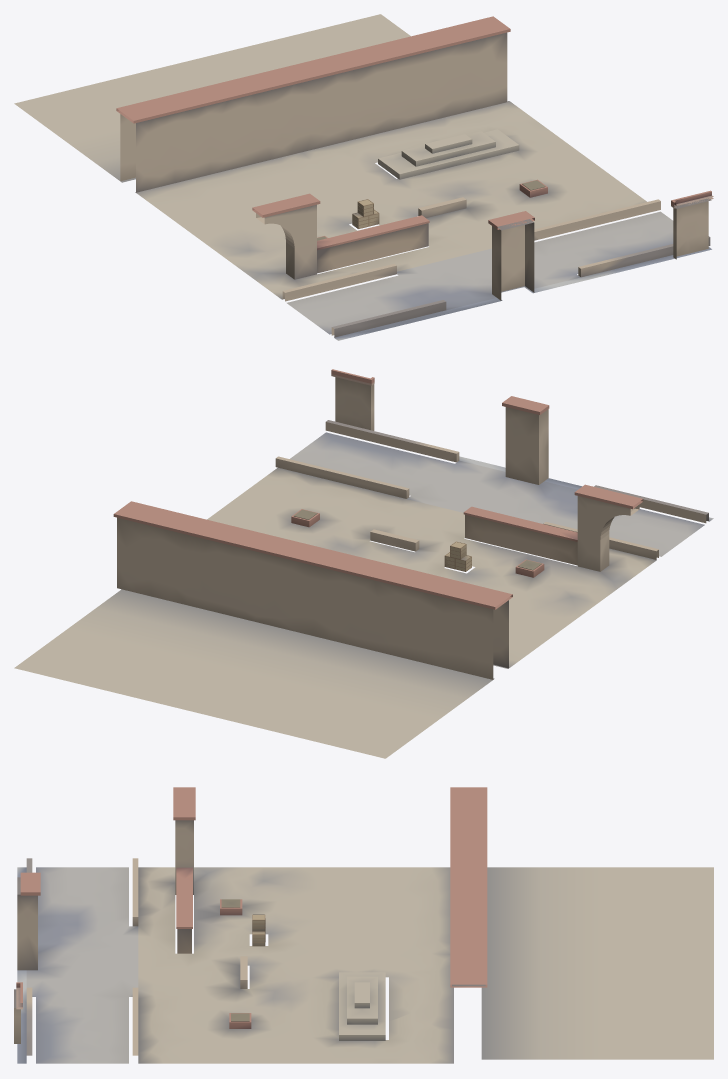
The picture shows the model from 3 angles, top to bottom: view 1: azimuth 30°, elevation 25°; view 2: azimuth 150°, elevation 25°; view 3: azimuth 270°, elevation 25°; orthographic projection. The views are drawn at different scales.
Visible parts, largest first — view 1: t; view 2: t; view 3: t.
Boxes of the visible parts, <box> form: t: <box>14,14,713,340</box>; t: <box>14,369,713,758</box>; t: <box>14,787,713,1063</box>.
Size of the model in its own units: 50.69 by 9.4 by 75.37.
